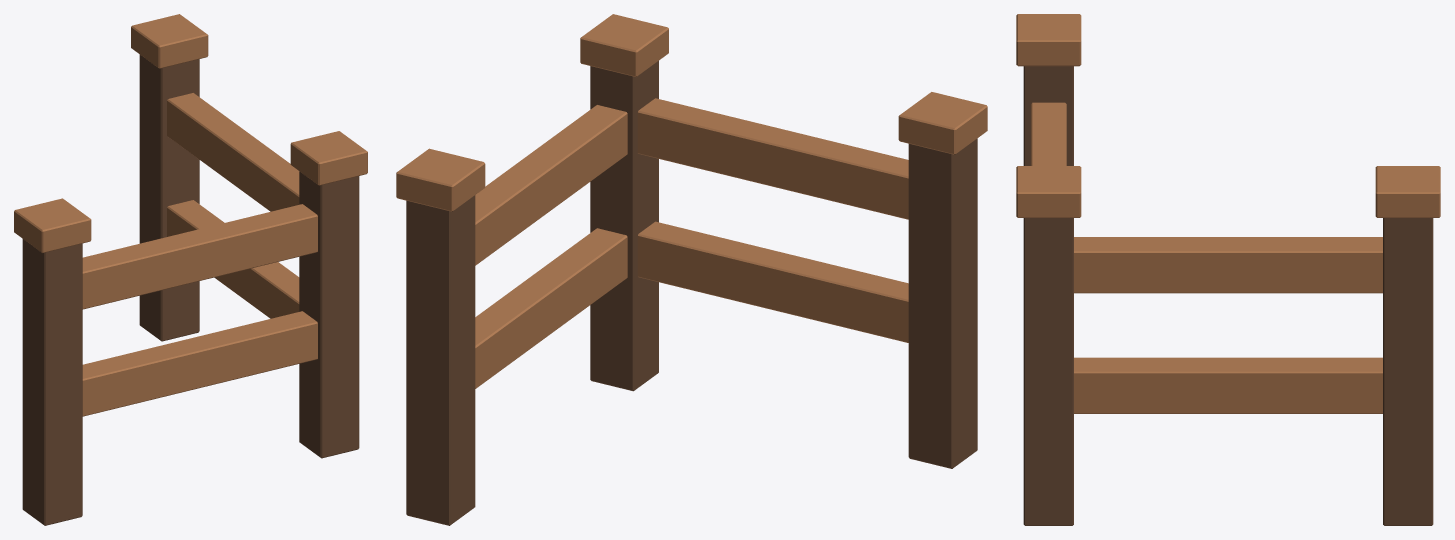
Rendered from wood_fence_corner_01.glb.
3 views of the same model, side by side, from view 1: azimuth 30°, elevation 25°; view 2: azimuth 150°, elevation 25°; view 3: azimuth 270°, elevation 25° (orthographic). The views are drawn at different scales.
Visible parts, largest first — view 1: wood_fence_corner_01; view 2: wood_fence_corner_01; view 3: wood_fence_corner_01.
Part boxes in pixels (x1=…): wood_fence_corner_01: x1=14, y1=14, x2=367, y2=525; wood_fence_corner_01: x1=396, y1=14, x2=987, y2=525; wood_fence_corner_01: x1=1016, y1=14, x2=1440, y2=525.
Bounding box in the file's own units: 1.18 × 1.03 × 1.18.
